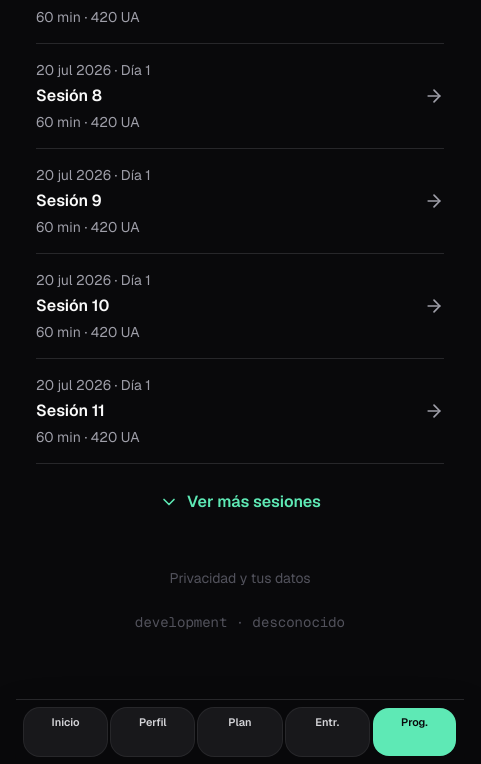
Test: Session history › reveals older sessions without an unbounded initial list
The width and height of the screenshot is (481, 764).
(page scrolled)
Expected: the link "Sesión 12" is not shown
Click the button "Ver más sesiones" at (240, 502), box [36, 480, 444, 524]
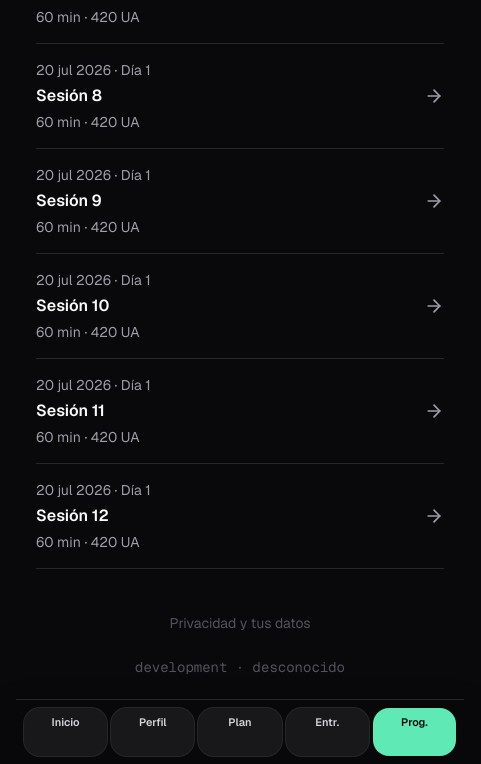
Result: the button "Ver más sesiones" is gone
